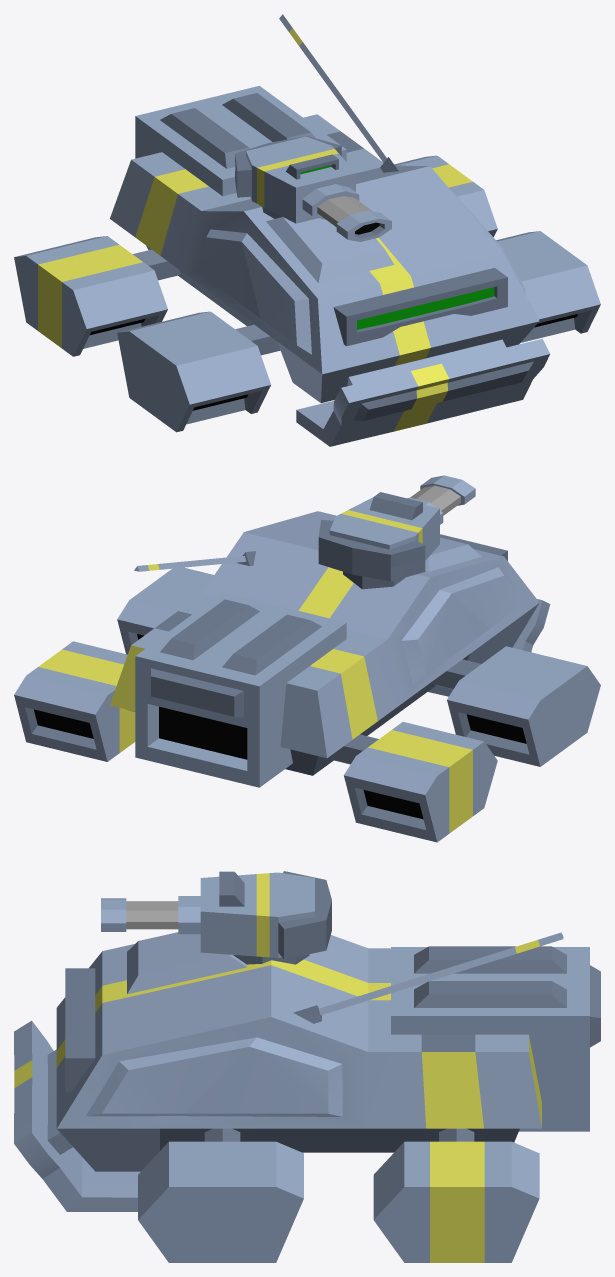
Rendered from minelayer.fbx.
3 renders of one model, top to bottom at view 1: azimuth 30°, elevation 25°; view 2: azimuth 150°, elevation 25°; view 3: azimuth 270°, elevation 25°, orthographic. The views are drawn at different scales.
Visible parts, largest first — view 1: minelayer_body, minelayer_turret; view 2: minelayer_body, minelayer_turret; view 3: minelayer_body, minelayer_turret.
Part boxes in pixels (bbox=[...]): minelayer_body: bbox=[14, 14, 600, 446]; minelayer_turret: bbox=[235, 136, 391, 241]; minelayer_body: bbox=[14, 511, 600, 842]; minelayer_turret: bbox=[318, 475, 475, 581]; minelayer_body: bbox=[14, 932, 600, 1262]; minelayer_turret: bbox=[101, 871, 331, 959].
Size of the model in its own units: 6.62 by 3.6 by 7.17.
